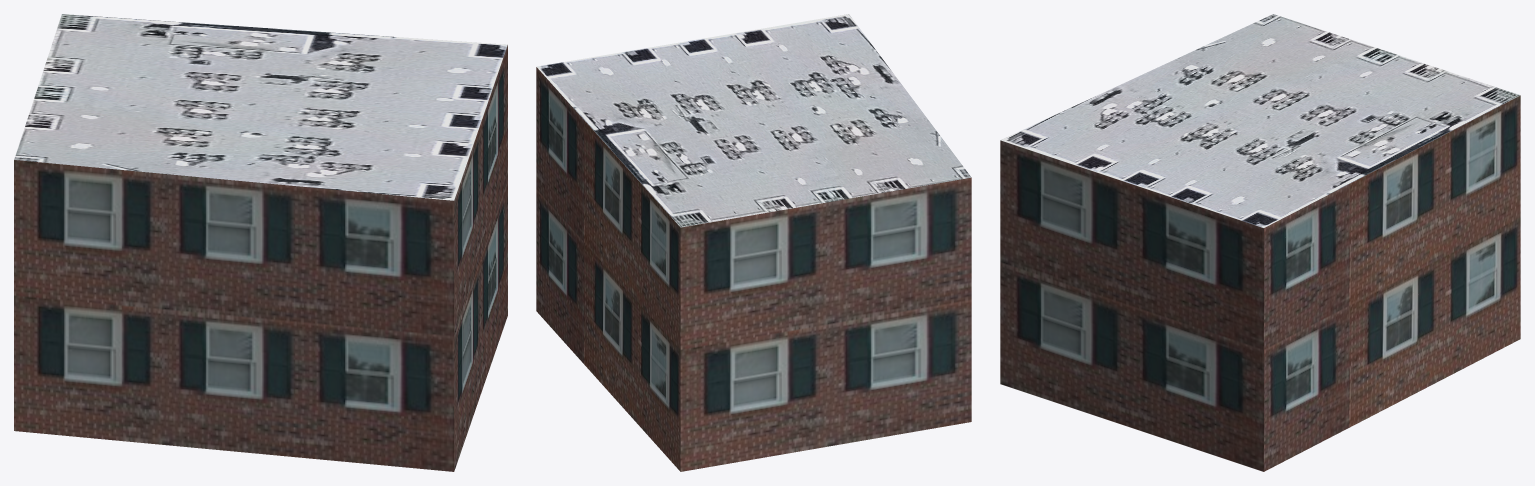
Rendered from ResTex__2455.fbx.
The picture shows the model from 3 angles, left to right: view 1: azimuth 30°, elevation 25°; view 2: azimuth 150°, elevation 25°; view 3: azimuth 270°, elevation 25°; orthographic projection. The views are drawn at different scales.
Visible parts, largest first — view 1: CityEngineMaterial_14_m, CityEngineMaterial_4_m; view 2: CityEngineMaterial_14_m, CityEngineMaterial_4_m; view 3: CityEngineMaterial_14_m, CityEngineMaterial_4_m.
Boxes of the visible parts, bbox=[...] form: CityEngineMaterial_14_m: bbox=[14, 45, 507, 471]; CityEngineMaterial_4_m: bbox=[14, 14, 507, 200]; CityEngineMaterial_14_m: bbox=[536, 67, 971, 471]; CityEngineMaterial_4_m: bbox=[536, 14, 971, 227]; CityEngineMaterial_14_m: bbox=[1000, 95, 1520, 471]; CityEngineMaterial_4_m: bbox=[1000, 14, 1520, 227].
Size of the model in its own units: 11.31 by 6 by 11.62.
Materials: 2 (2 with a texture image).
